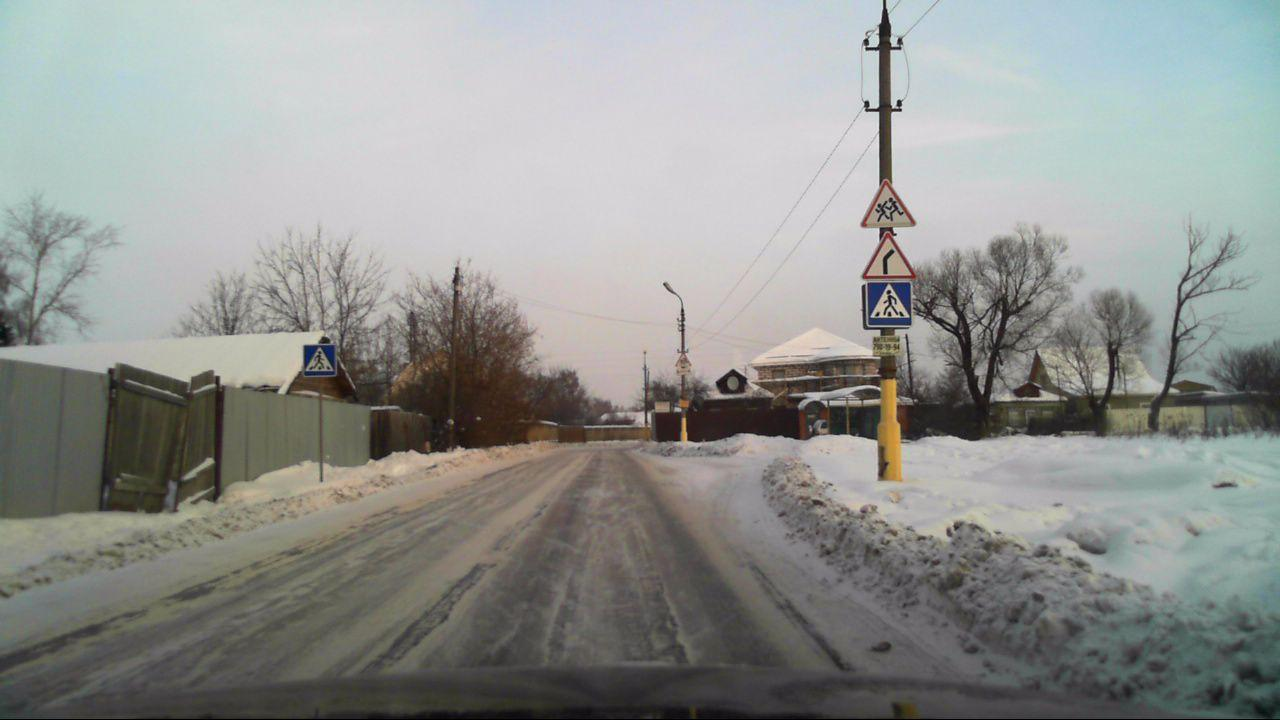1_11_1: (863, 232, 914, 279)
1_23: (859, 178, 918, 229), (674, 354, 692, 367)
5_19_1: (865, 282, 913, 328)
5_19_2: (304, 344, 336, 376)
8_2_1: (677, 368, 692, 376)
